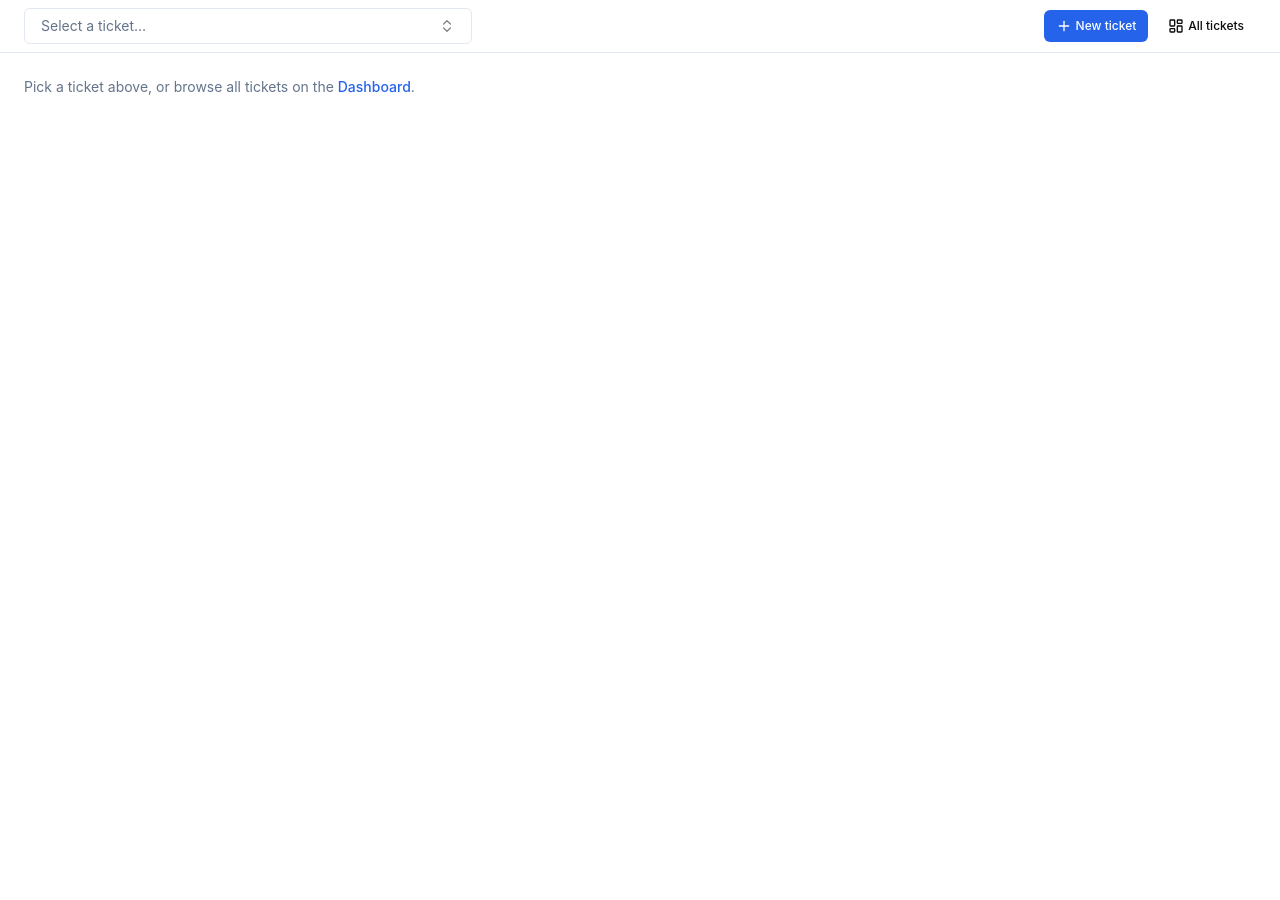
Test case: NewTicketDialog › shows the CLI rejection of a new ticket
Click the button "New ticket" at (1096,26), box [1044,10,1148,42]
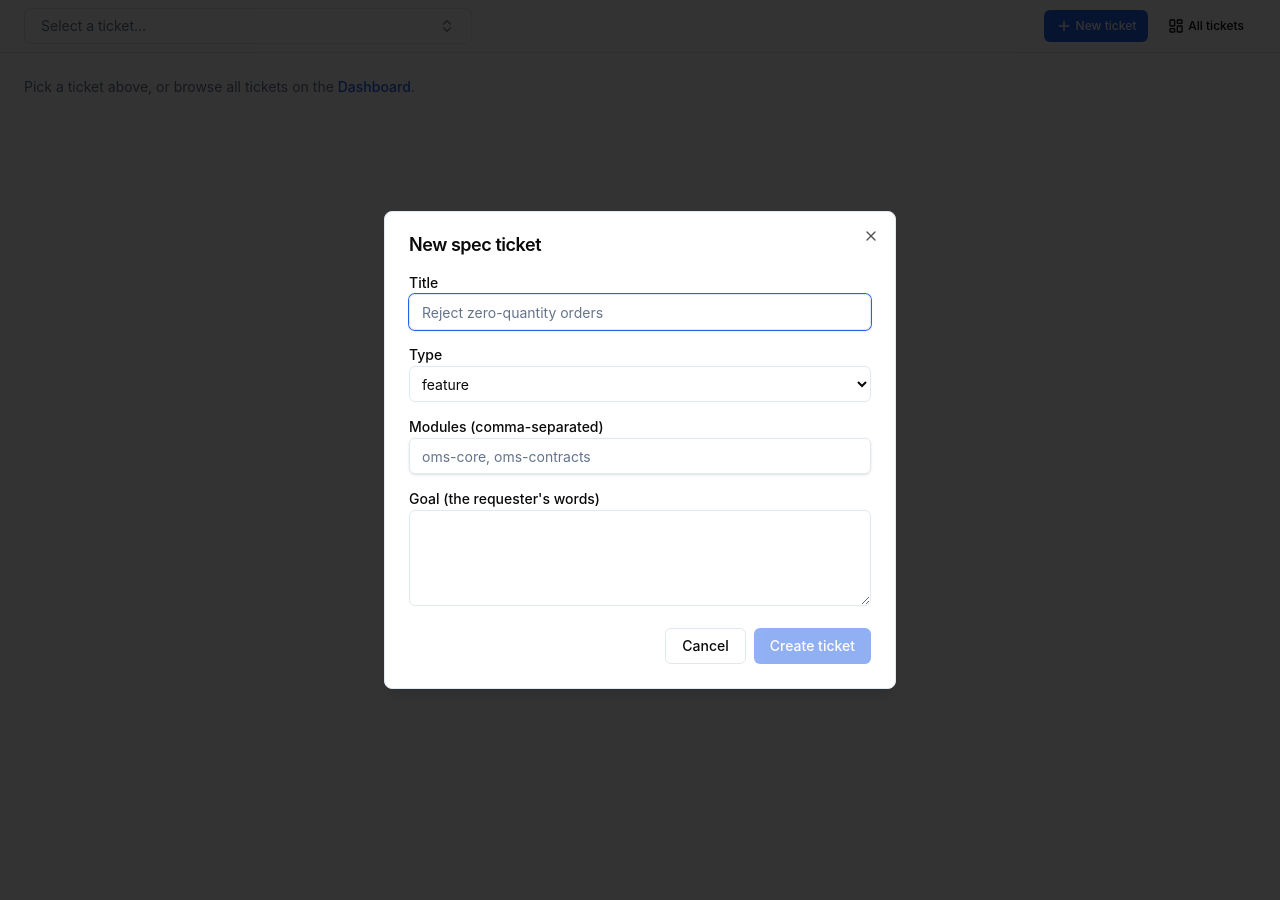
Type "Reject zero qty" into the field labelled "Title" at (640,312), box [409,294,871,330]
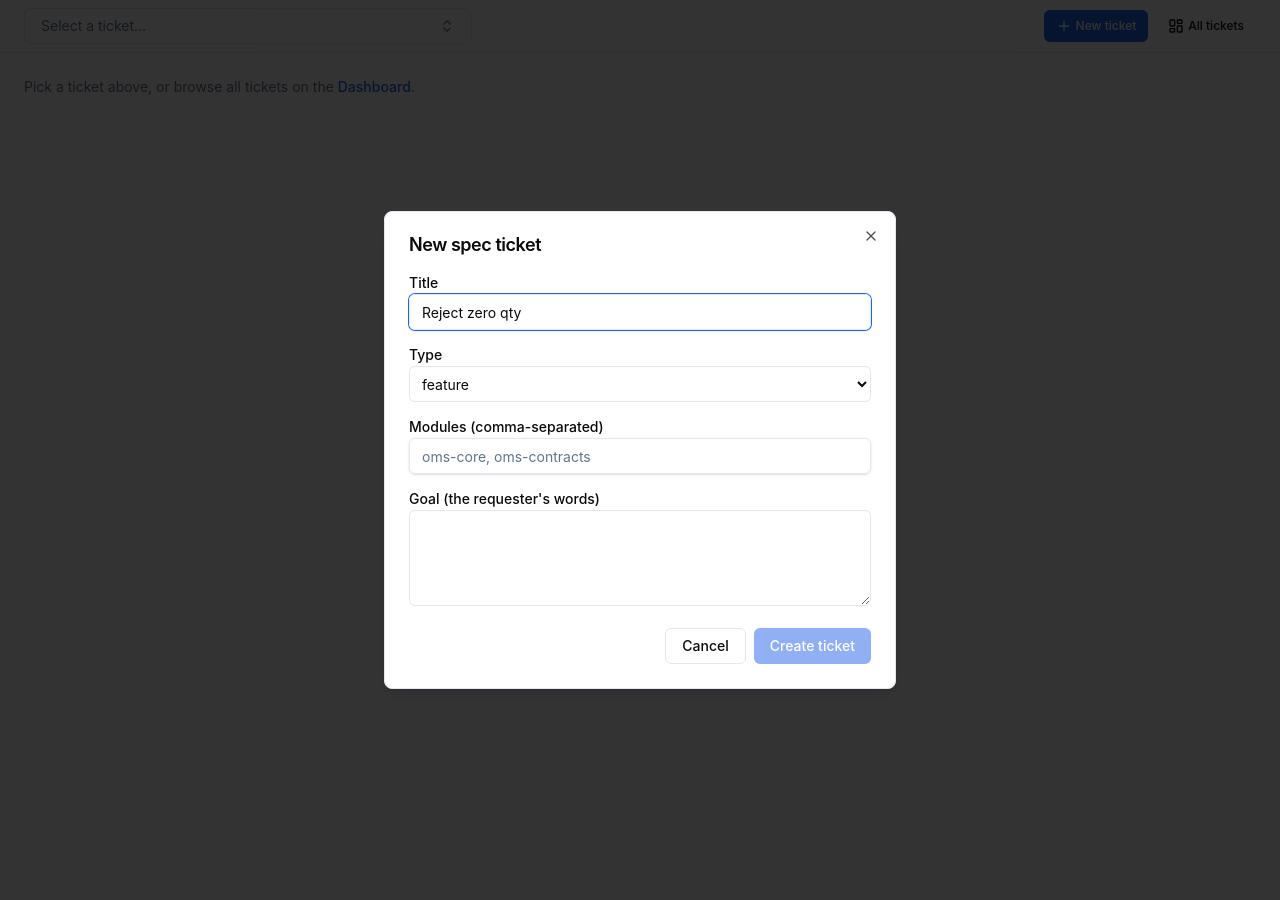
Select "fix" in the dropdown labelled "Type" at (640,384), box [409,366,871,402]
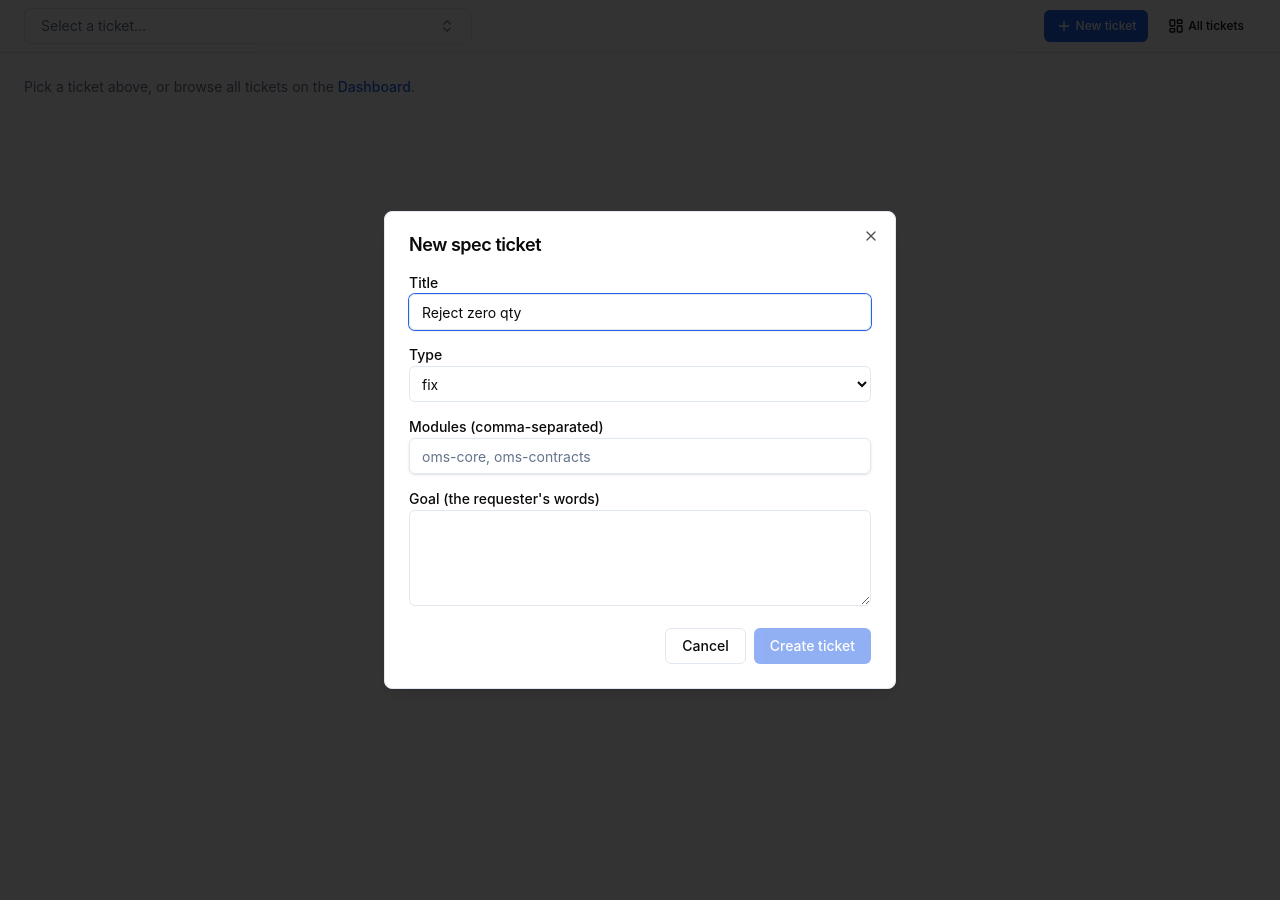
Type "oms-core, nope" into the field labelled "Modules (comma-separated)" at (640,456), box [409,438,871,474]
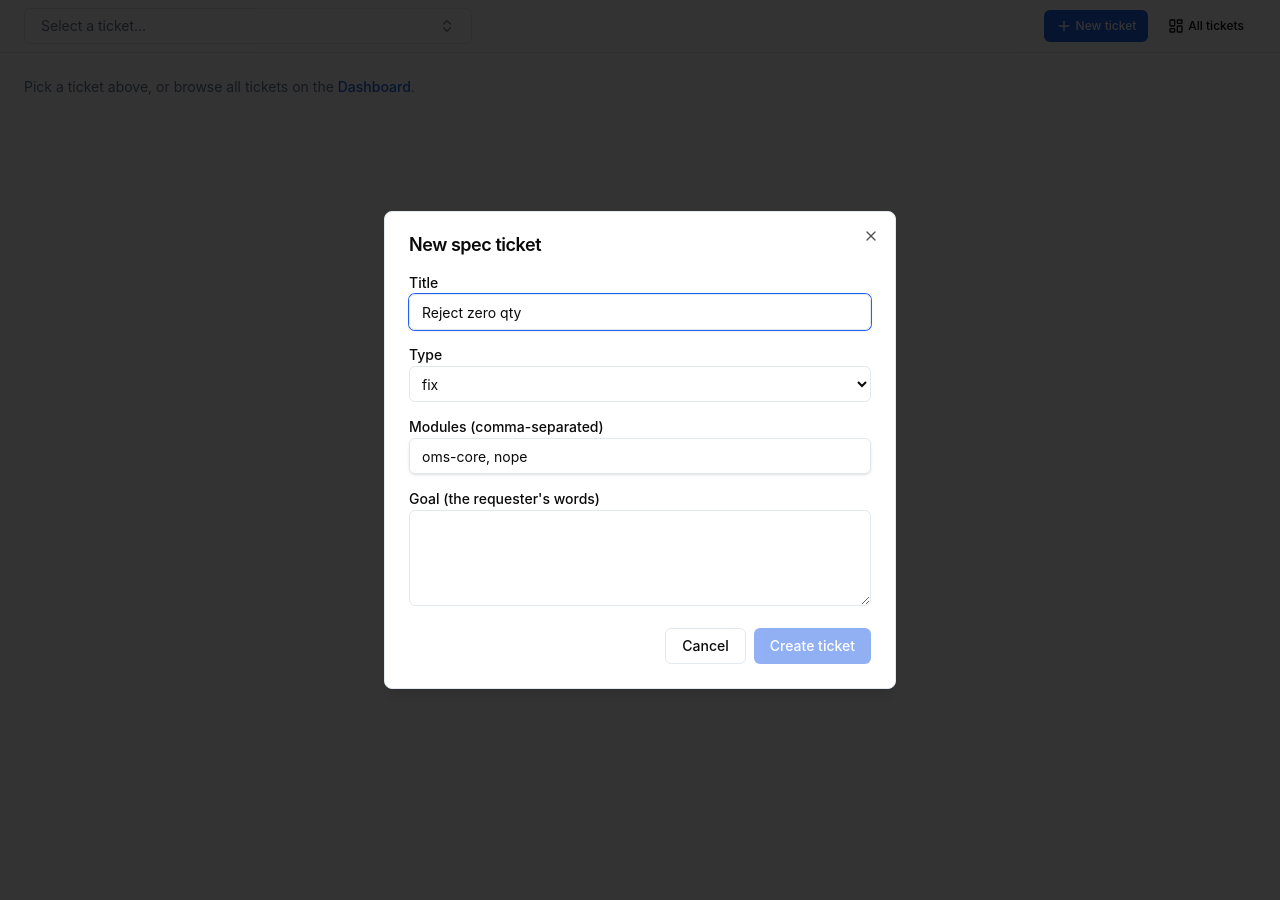
Type "Zero quantity is rejected." into the text box labelled "Goal (the requester's words)" at (640,558), box [409,510,871,606]
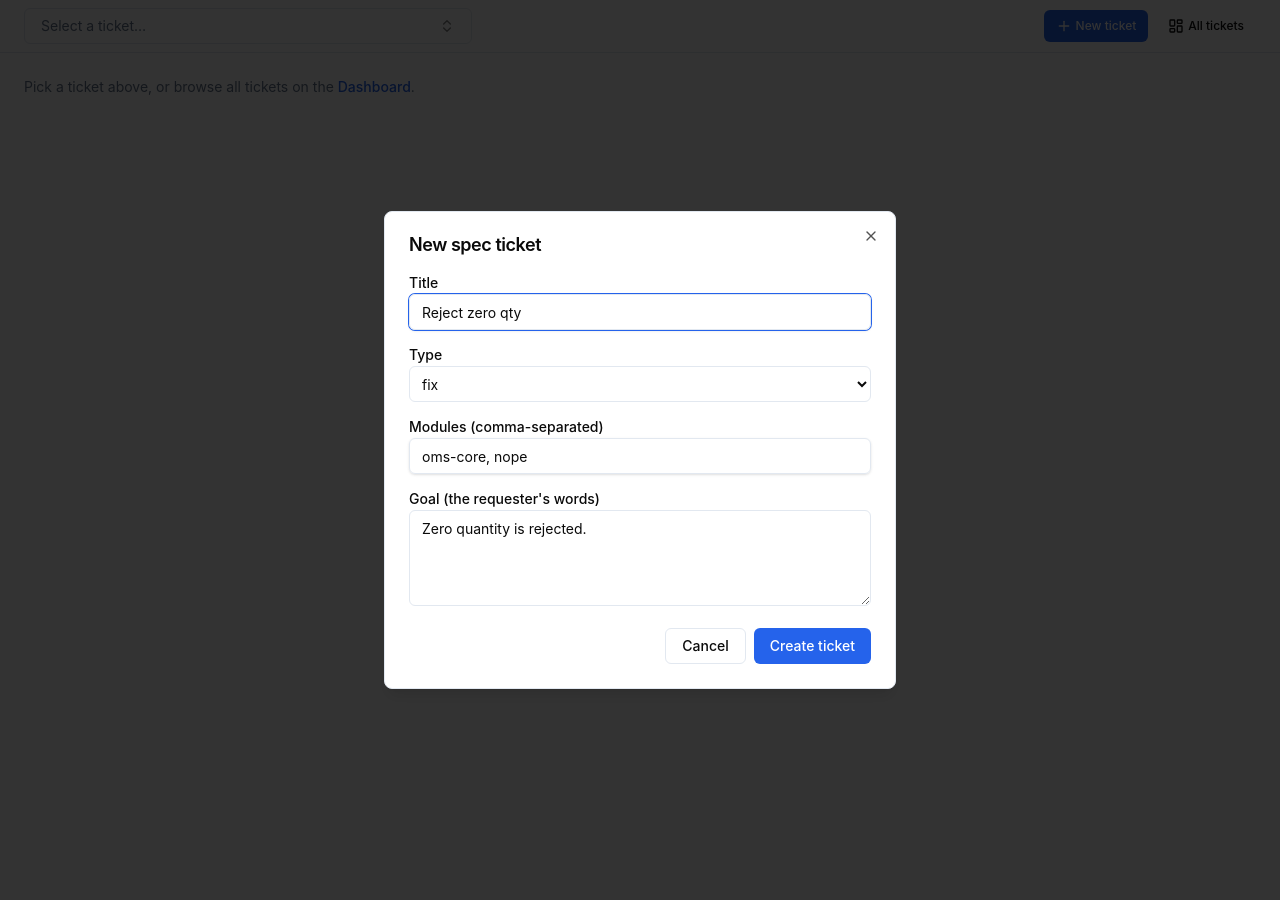
Click the button "Create ticket" at (812,646), box [754,628,871,664]
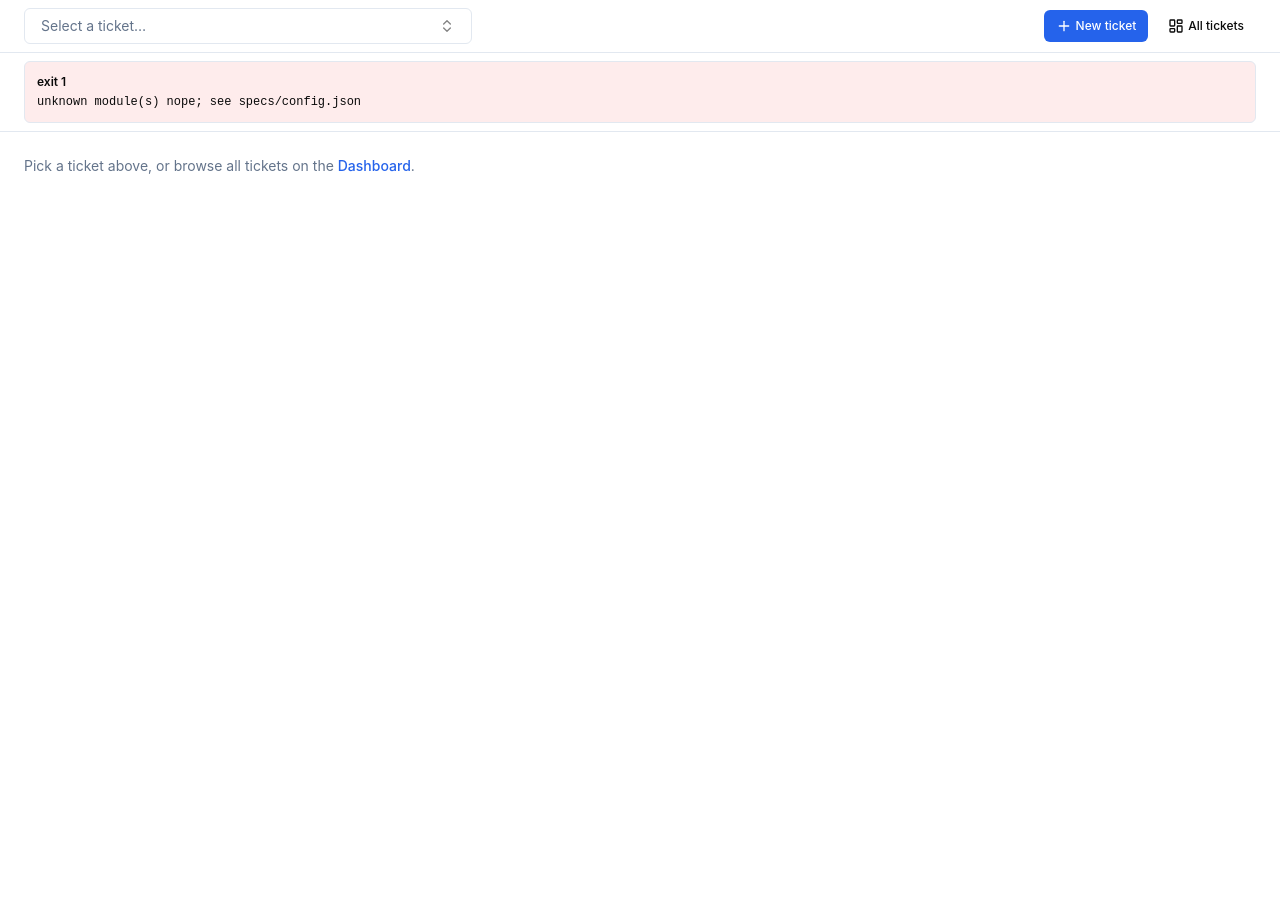
Expected: the text "exit 1" is shown, [37,74,66,89]
Expected: the text "unknown module(s) nope; see specs/config.json" is shown, [37,95,361,109]
